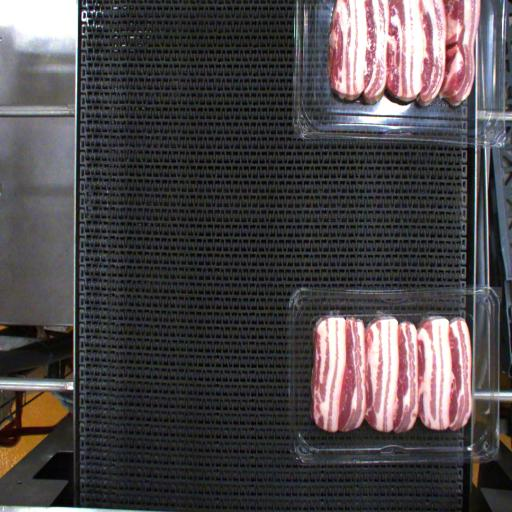unsealed: (314, 304, 462, 326)
